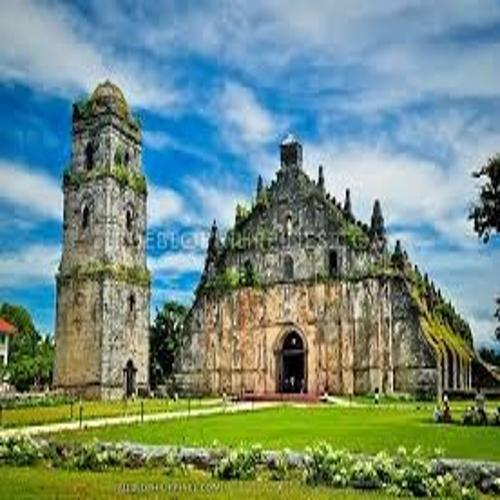Paoay Church: (34, 68, 500, 408)
